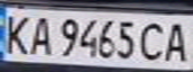4: (75, 16, 100, 58)
5: (115, 17, 142, 61)
6: (96, 16, 121, 60)
9: (54, 15, 81, 57)
A: (160, 18, 193, 64), (24, 14, 57, 56)
C: (136, 19, 172, 63)
K: (0, 11, 33, 56)
